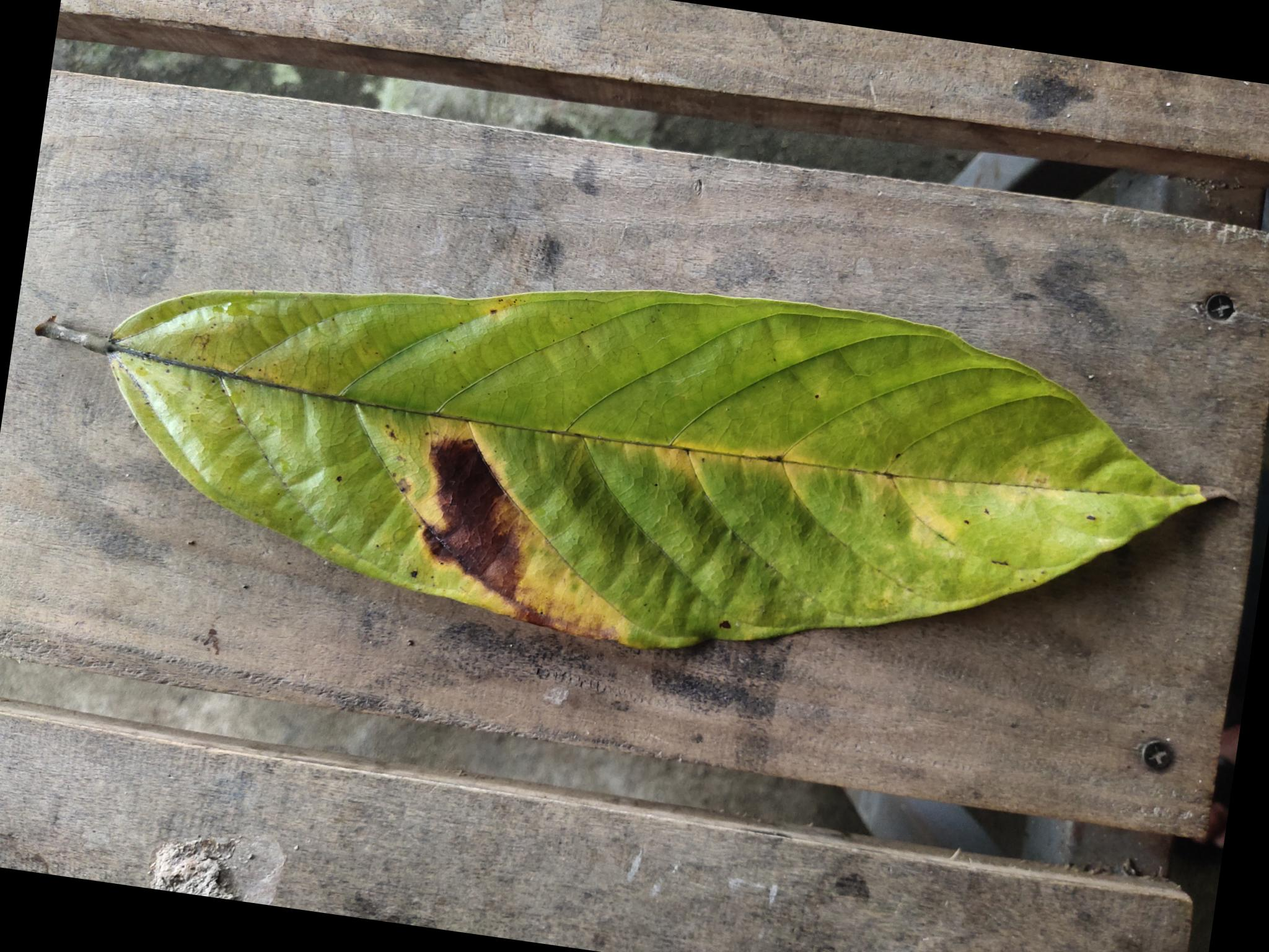Fosforo: (114, 265, 1243, 651)
